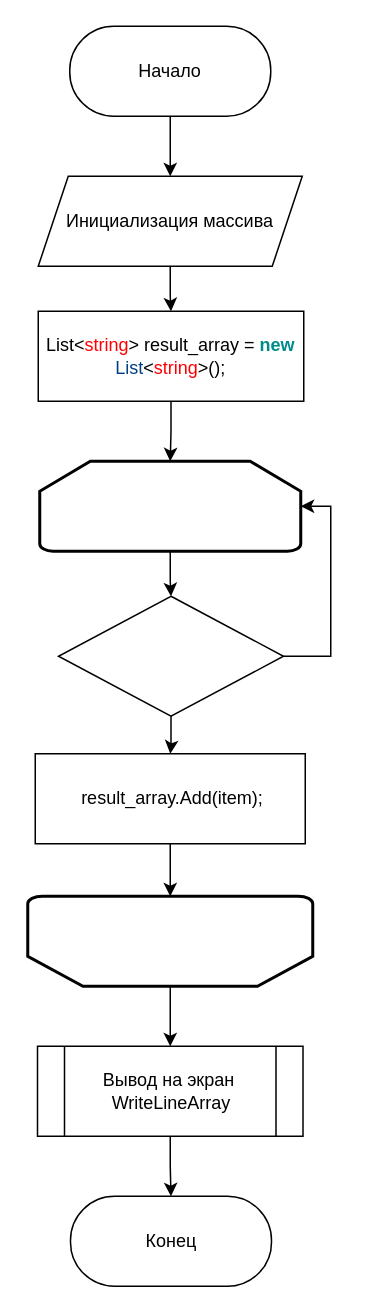
Some shapes in this 369 by 1313 pixel diagram are drawn without their labels. Here are the shapes that lost their labels. From the top down, the centre of each, then its label:
At (x=170, y=505): "foreach( string item in array)".
At (x=170, y=655): "if(item.Length <= 3 )".
At (x=170, y=940): "foreach".
